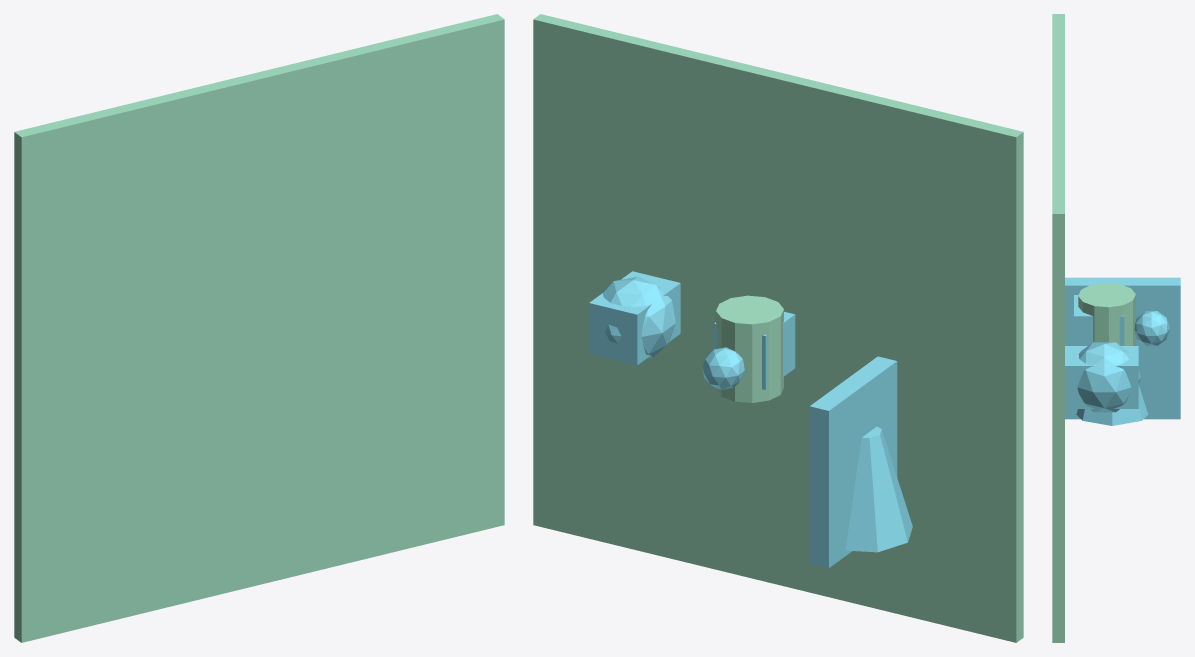
Rendered from pet-rescue-clinic-kit.glb.
3 views of the same model, side by side, from view 1: azimuth 30°, elevation 25°; view 2: azimuth 150°, elevation 25°; view 3: azimuth 270°, elevation 25° (orthographic). The views are drawn at different scales.
Visible parts, largest first — view 1: ENVIRONMENT_GROUND; view 2: ENVIRONMENT_GROUND, ENVIRONMENT_PANEL, PLAYER_BODY, PROFILE_ENVIRONMENT_DETAIL, PROFILE_OBSTACLE_DETAIL, OBSTACLE, PLAYER_CORE, PROFILE_PLAYER_DETAIL; view 3: ENVIRONMENT_GROUND, ENVIRONMENT_PANEL, OBSTACLE, PLAYER_BODY, PROFILE_OBSTACLE_DETAIL, PROFILE_ENVIRONMENT_DETAIL, PLAYER_CORE, PROFILE_PLAYER_DETAIL.
Part boxes in pixels (box(x1,y1,x2,y2)): ENVIRONMENT_GROUND: box(14, 14, 504, 642); ENVIRONMENT_GROUND: box(533, 14, 1023, 642); ENVIRONMENT_PANEL: box(809, 356, 897, 568); PLAYER_BODY: box(716, 295, 783, 402); PROFILE_ENVIRONMENT_DETAIL: box(845, 426, 912, 552); PROFILE_OBSTACLE_DETAIL: box(589, 271, 680, 365); OBSTACLE: box(599, 276, 675, 358); PLAYER_CORE: box(702, 347, 744, 389); PROFILE_PLAYER_DETAIL: box(714, 311, 795, 389); ENVIRONMENT_GROUND: box(1052, 14, 1064, 642); ENVIRONMENT_PANEL: box(1065, 277, 1180, 419); OBSTACLE: box(1077, 342, 1140, 412); PLAYER_BODY: box(1078, 283, 1135, 345); PROFILE_OBSTACLE_DETAIL: box(1065, 346, 1138, 408); PROFILE_ENVIRONMENT_DETAIL: box(1076, 385, 1147, 425); PLAYER_CORE: box(1134, 311, 1169, 345); PROFILE_PLAYER_DETAIL: box(1074, 295, 1124, 345).
Size of the model in its own units: 9 by 9 by 2.44.
